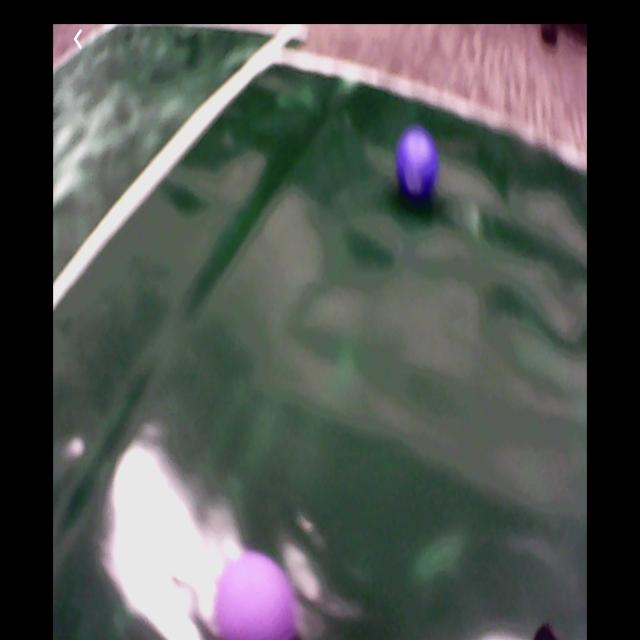ball: (211, 551, 300, 640), (396, 127, 438, 204)
